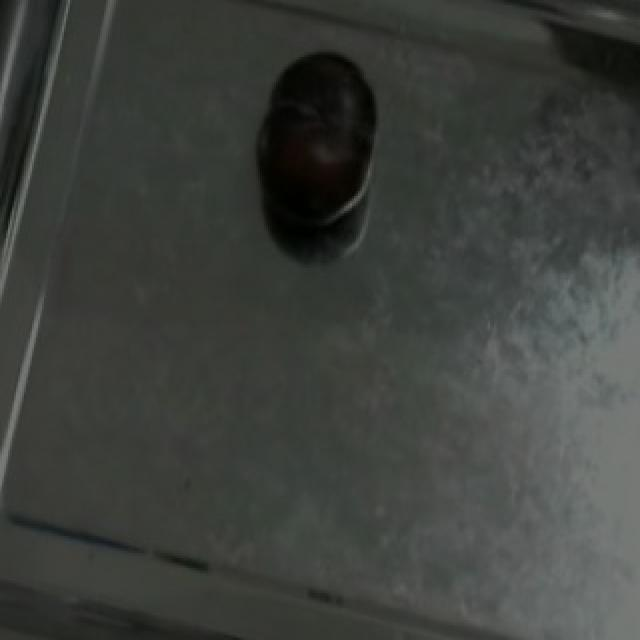Fruit: (246, 32, 390, 241)
